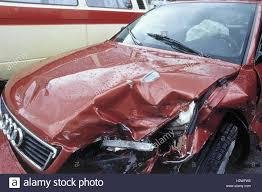bonnet-dent: (27, 53, 206, 146)
